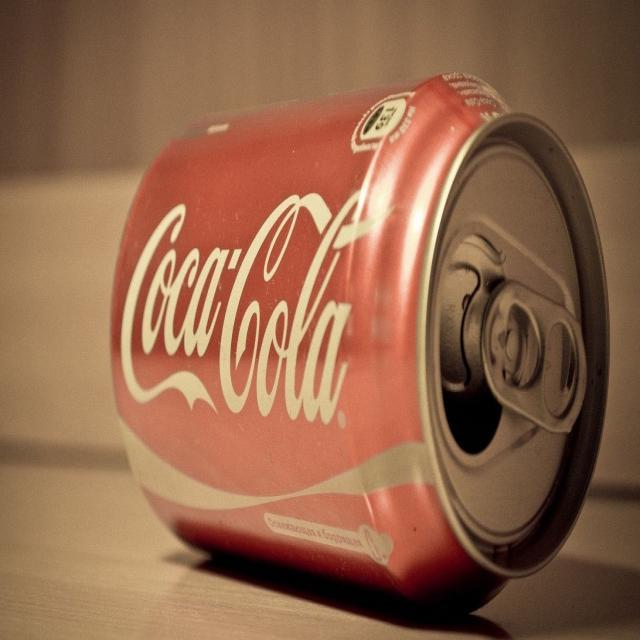Coke: (107, 69, 613, 621)
